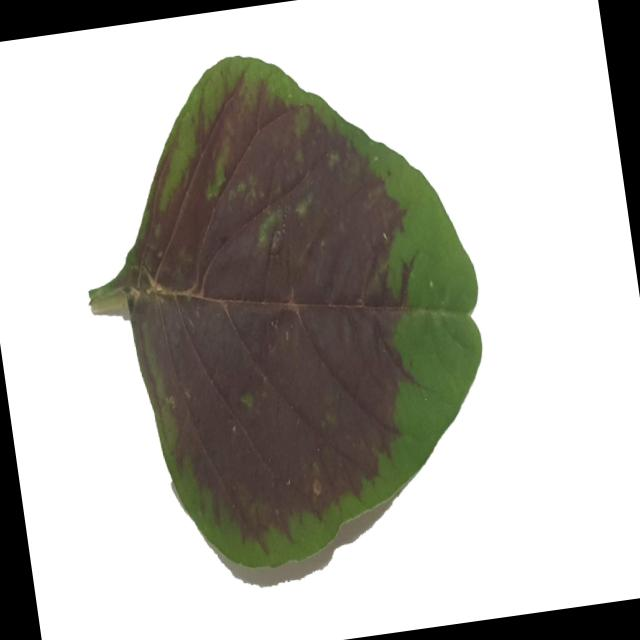Medicinal-Arive Dantu: (55, 17, 513, 597)
